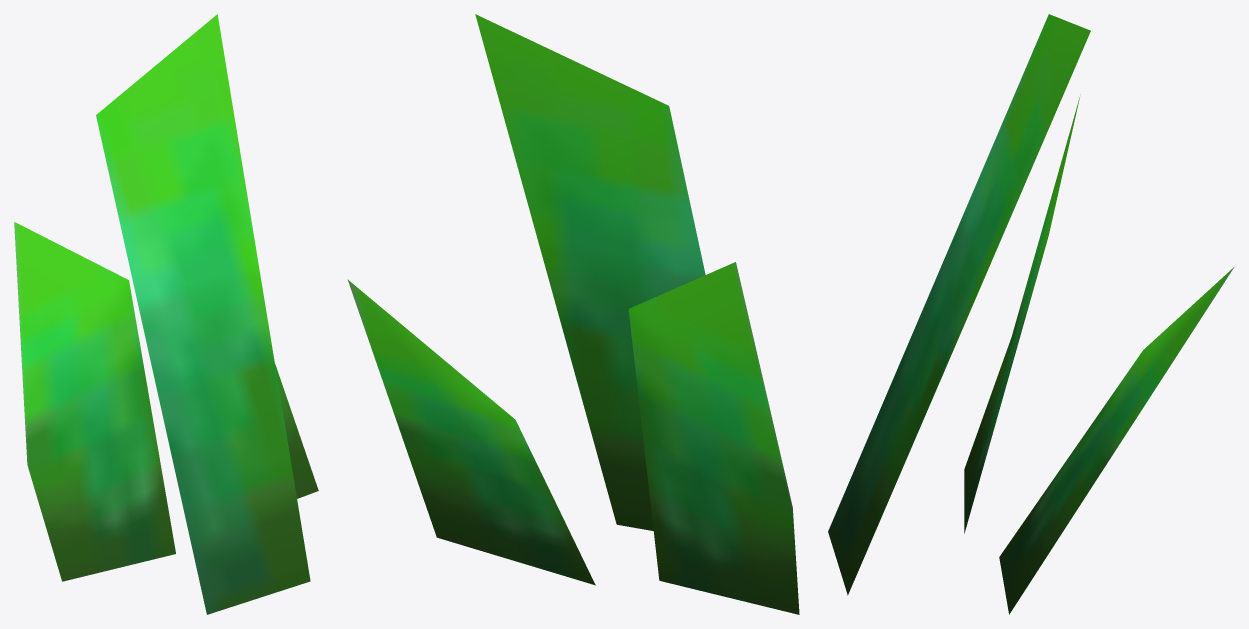
Rendered from fg_grassB.dae.
3 renders of one model, left to right at view 1: azimuth 30°, elevation 25°; view 2: azimuth 150°, elevation 25°; view 3: azimuth 270°, elevation 25°, orthographic. The views are drawn at different scales.
Parts seen in each view (by area): view 1: fg_grassB; view 2: fg_grassB; view 3: fg_grassB.
Boxes of the visible parts, x1,y1,x2,y2 form: fg_grassB: (14, 14, 318, 614); fg_grassB: (347, 14, 799, 614); fg_grassB: (828, 14, 1234, 614).
Bounding box in the file's own units: 13.26 × 21.31 × 13.76.
Materials: 1 (1 with a texture image).
